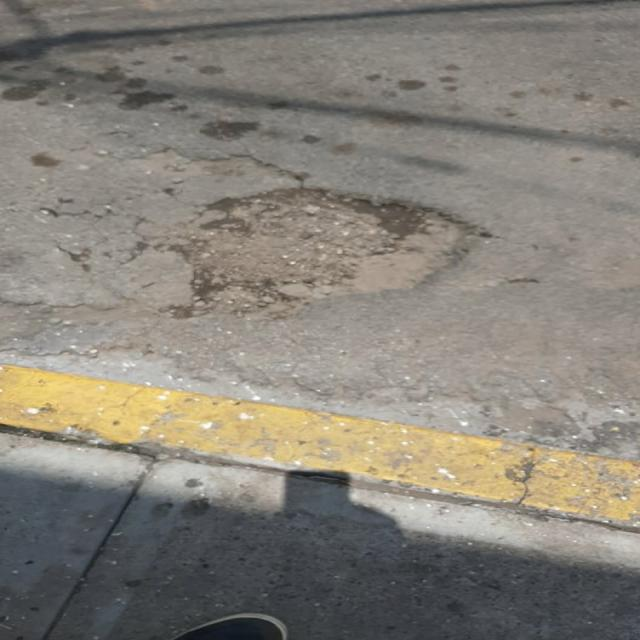Pothole: (136, 173, 521, 341)
